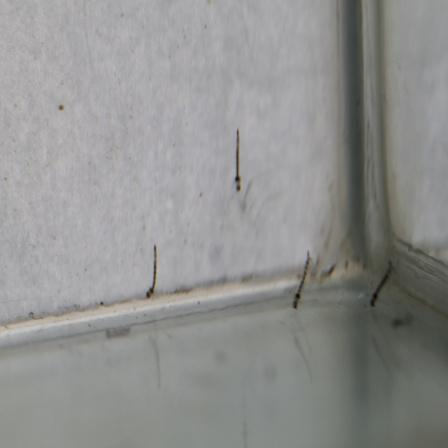Jentik-Nyamuk: (369, 254, 394, 312), (290, 249, 311, 312), (230, 124, 248, 196), (145, 242, 159, 301)
